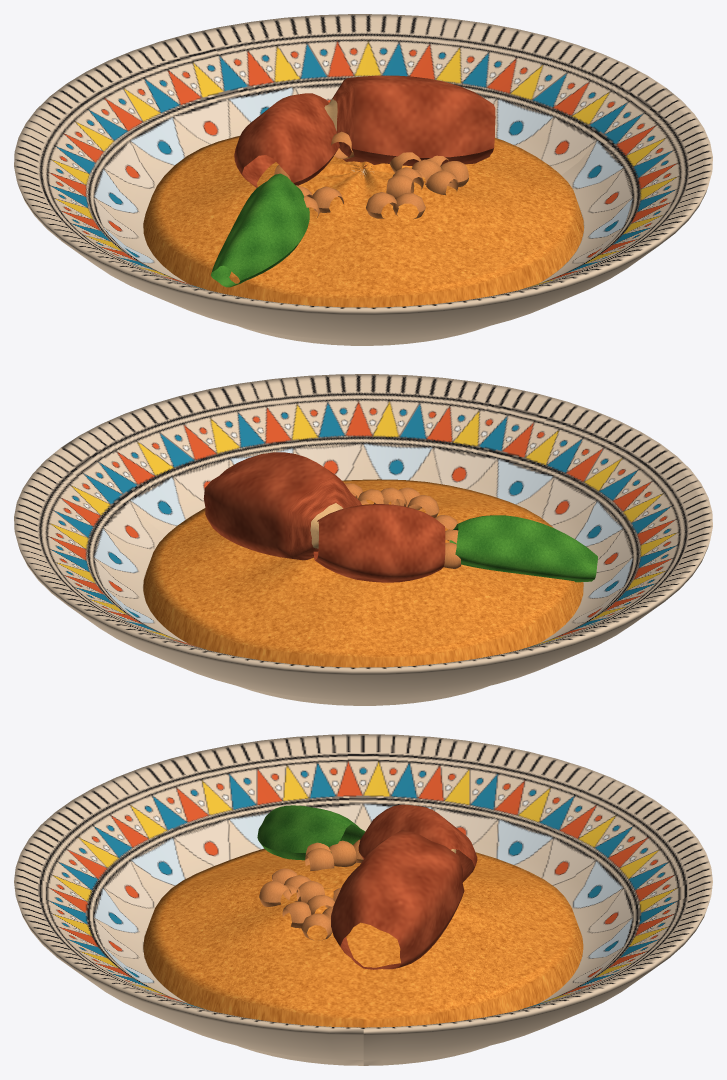
Rendered from Couscous_Plat_050pct.fbx.
3 views of the same model, one above another, from view 1: azimuth 30°, elevation 25°; view 2: azimuth 150°, elevation 25°; view 3: azimuth 270°, elevation 25° (orthographic).
Visible parts, largest first — view 1: 00_Plate_Tebsi_Ceramic, 01_Couscous_Semolina_Mound, 02_Meat_Lamb_Shank_Main, 03_Meat_Braised_Left, 06_Veg_Green_Pepper_Felfel, 05_Chickpeas_Cluster; view 2: 00_Plate_Tebsi_Ceramic, 01_Couscous_Semolina_Mound, 02_Meat_Lamb_Shank_Main, 03_Meat_Braised_Left, 06_Veg_Green_Pepper_Felfel, 05_Chickpeas_Cluster; view 3: 00_Plate_Tebsi_Ceramic, 01_Couscous_Semolina_Mound, 02_Meat_Lamb_Shank_Main, 05_Chickpeas_Cluster, 06_Veg_Green_Pepper_Felfel, 03_Meat_Braised_Left.
Part boxes in pixels (box(x1,y1,x2,y2)): 00_Plate_Tebsi_Ceramic: box(14, 14, 712, 345); 01_Couscous_Semolina_Mound: box(143, 136, 583, 307); 02_Meat_Lamb_Shank_Main: box(324, 75, 495, 169); 03_Meat_Braised_Left: box(234, 93, 339, 187); 06_Veg_Green_Pepper_Felfel: box(211, 173, 309, 287); 05_Chickpeas_Cluster: box(274, 131, 468, 219); 00_Plate_Tebsi_Ceramic: box(14, 374, 712, 705); 01_Couscous_Semolina_Mound: box(143, 479, 583, 667); 02_Meat_Lamb_Shank_Main: box(203, 452, 361, 560); 03_Meat_Braised_Left: box(313, 504, 445, 582); 06_Veg_Green_Pepper_Felfel: box(449, 515, 597, 582); 05_Chickpeas_Cluster: box(345, 483, 460, 568); 00_Plate_Tebsi_Ceramic: box(14, 734, 712, 1065); 01_Couscous_Semolina_Mound: box(143, 848, 583, 1027); 02_Meat_Lamb_Shank_Main: box(331, 829, 464, 969); 05_Chickpeas_Cluster: box(259, 839, 363, 940); 06_Veg_Green_Pepper_Felfel: box(257, 805, 365, 860); 03_Meat_Braised_Left: box(358, 804, 477, 882).
Bounding box in the file's own units: 32 × 8.17 × 32.
